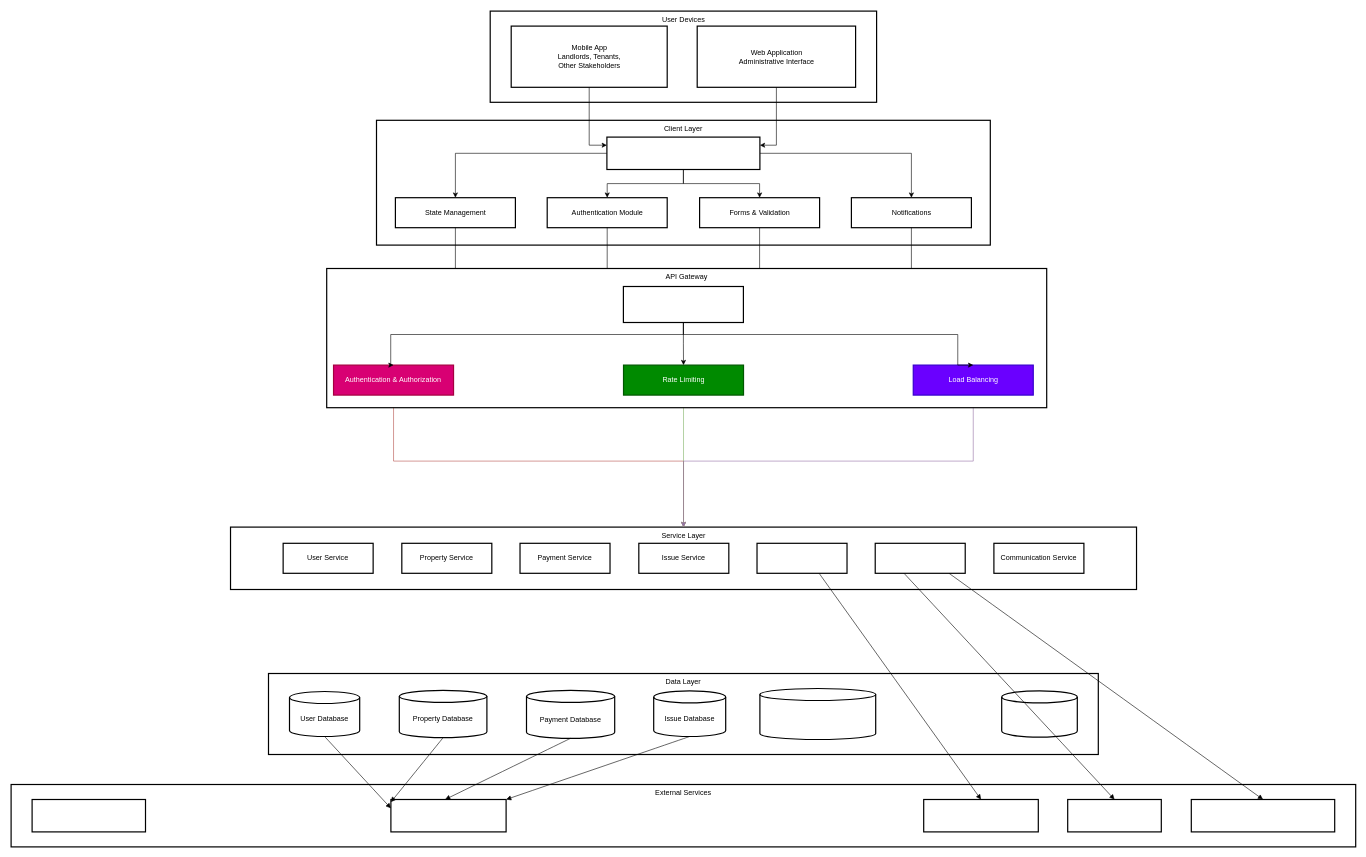
This 1366x857 diagram has some shape labels left out. The shapes that lost their labels are listed below. From the top down, each one's centre as x and y in pixels, then its label:
point (683, 153): User Interface Components
point (683, 304): API Router
point (801, 558): Document Service
point (920, 558): Notification Service
point (817, 714): Document & File Storage
point (1039, 713): Logs & Auditing
point (88, 815): Payment Gateway
point (448, 815): Analytics Platform
point (981, 815): Cloud File Storage
point (1114, 815): Email Service
point (1262, 815): Push Notification Service
